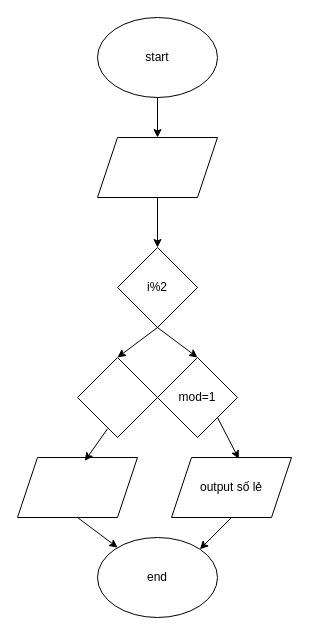
Some shapes in this 309 by 635 pixel diagram are drawn without their labels. Here are the shapes that lost their labels. From the top down, the box of each, then its label:
(96, 136, 218, 198): input i
(76, 356, 158, 438): mod=0
(16, 456, 138, 518): output số chẵn
